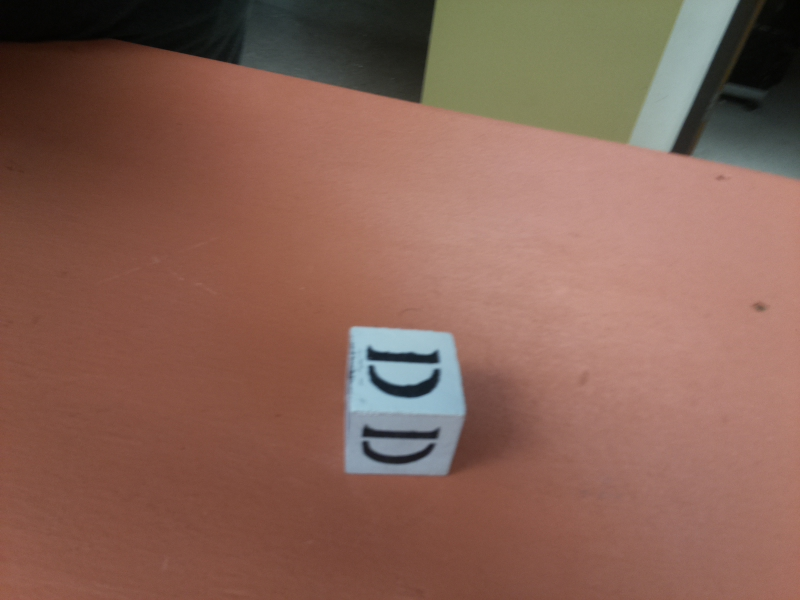blockD: (342, 323, 465, 478)
